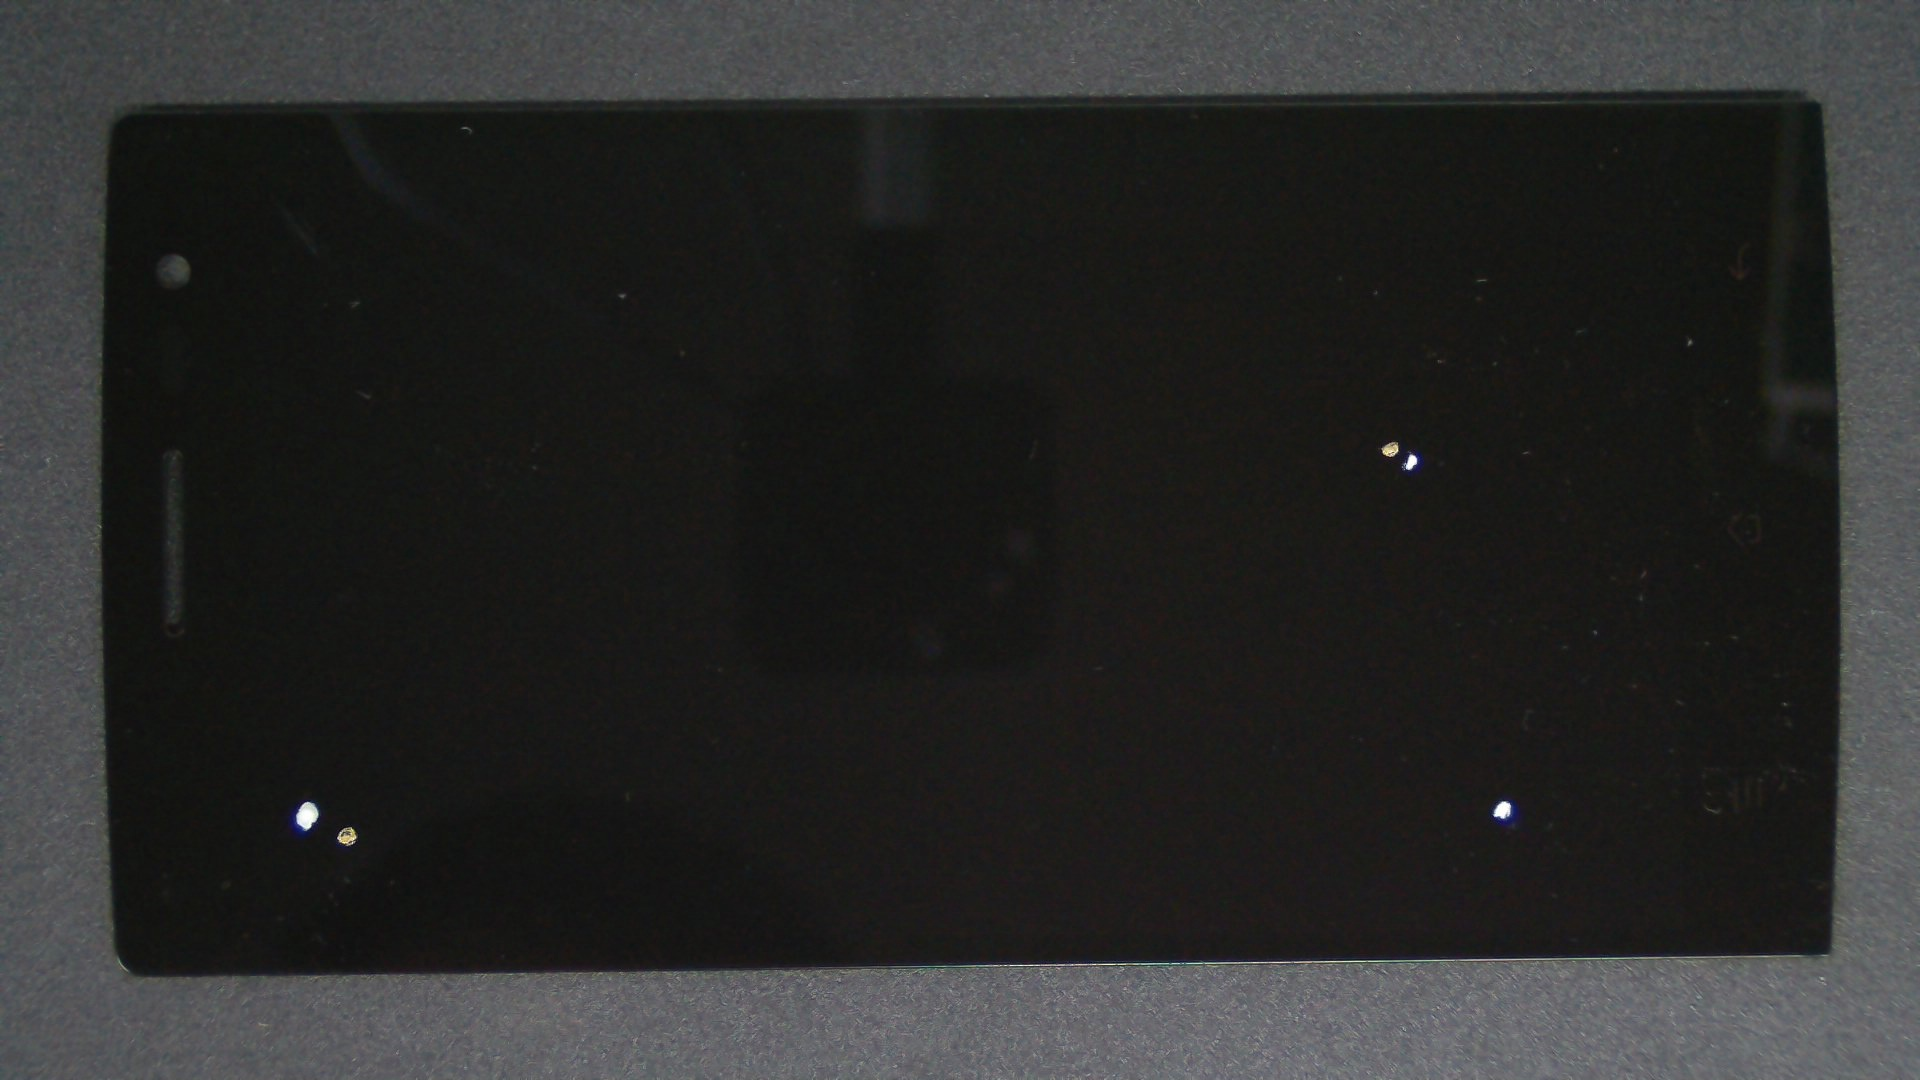oil: (752, 398, 1920, 1080), (704, 224, 1920, 674), (695, 219, 1920, 661), (175, 411, 525, 1080), (153, 400, 459, 1080)
